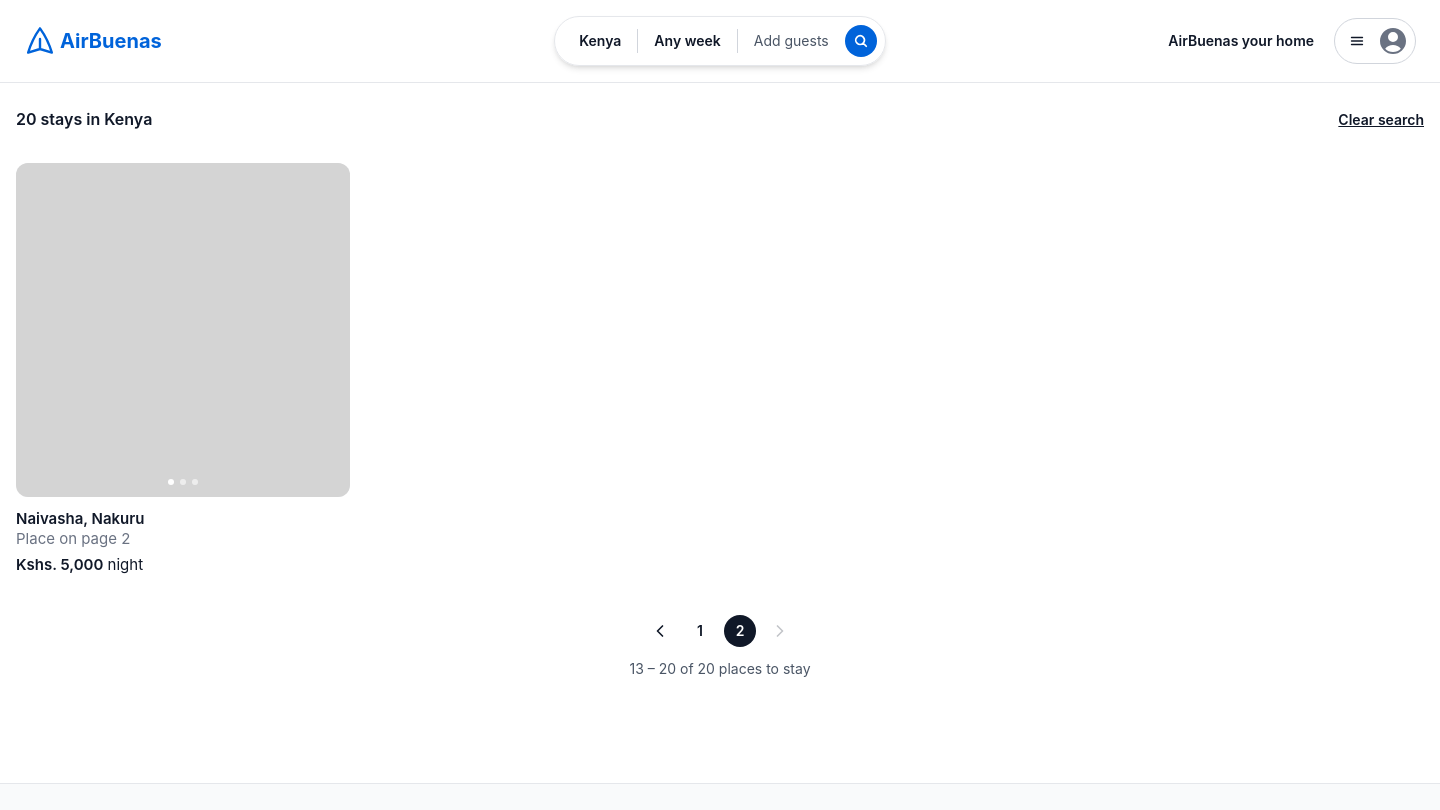
Test: IndexPage › paginates, keeping the search, and fixes out-of-range pages
Expected: the heading "Place on page 2" is shown, left=16, top=529, right=130, bottom=548
Click the button named "Page 1" at (700, 631), box left=684, top=615, right=716, bottom=647
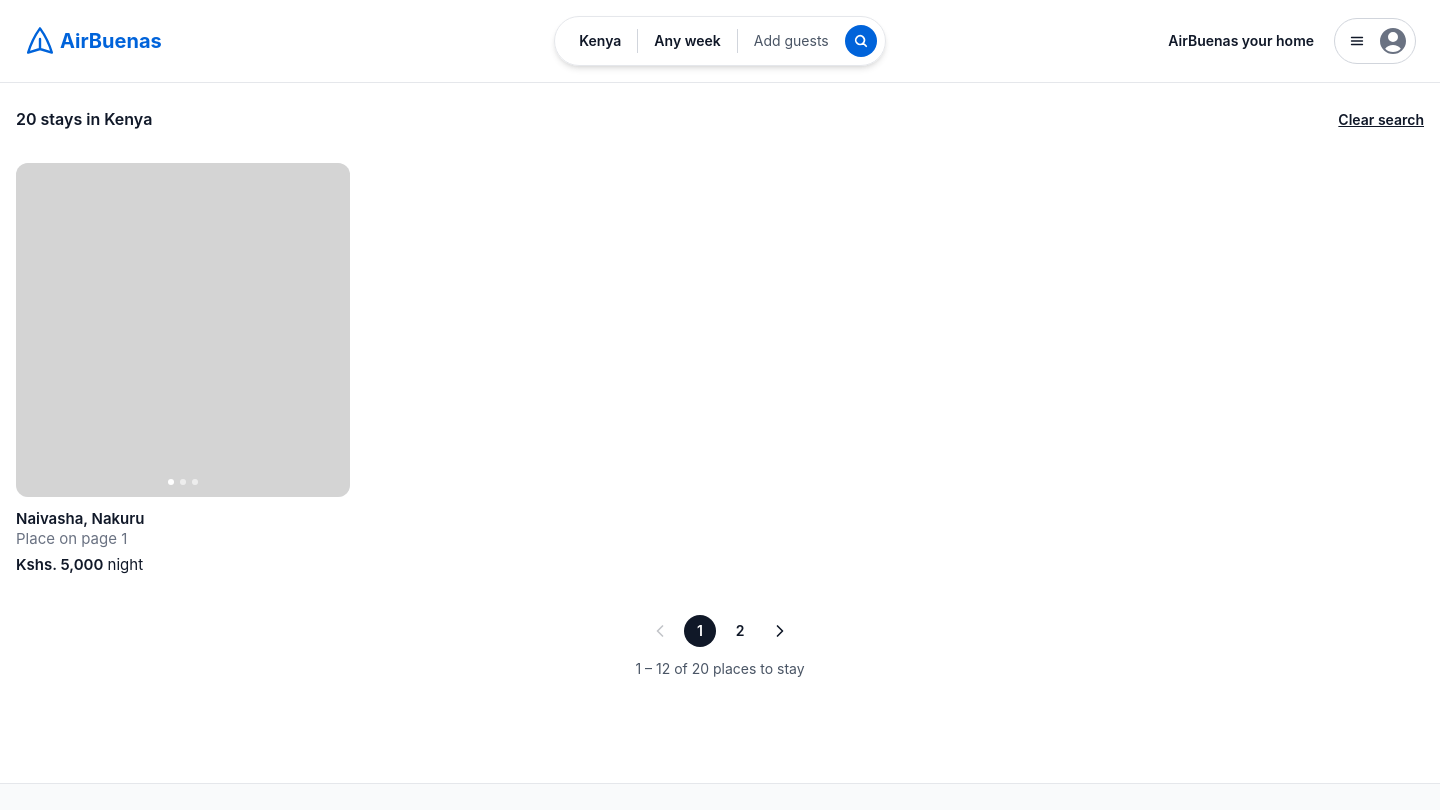
Now the heading "Place on page 1" is shown, box left=16, top=529, right=127, bottom=548
